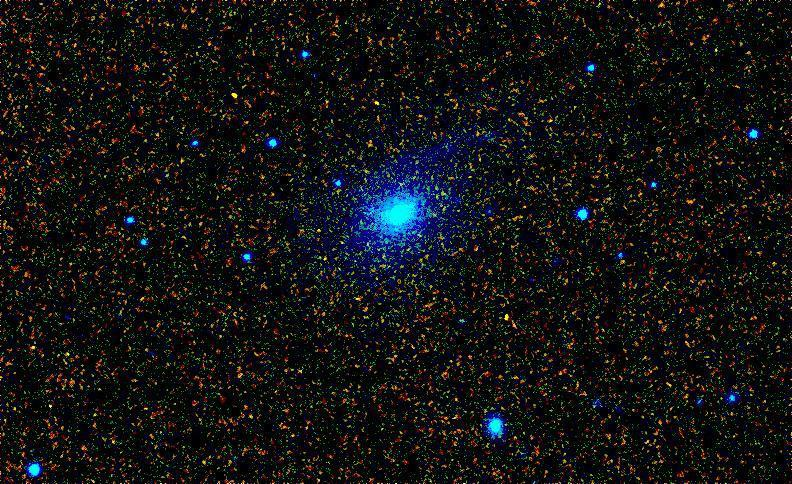star: (219, 78, 249, 108)
